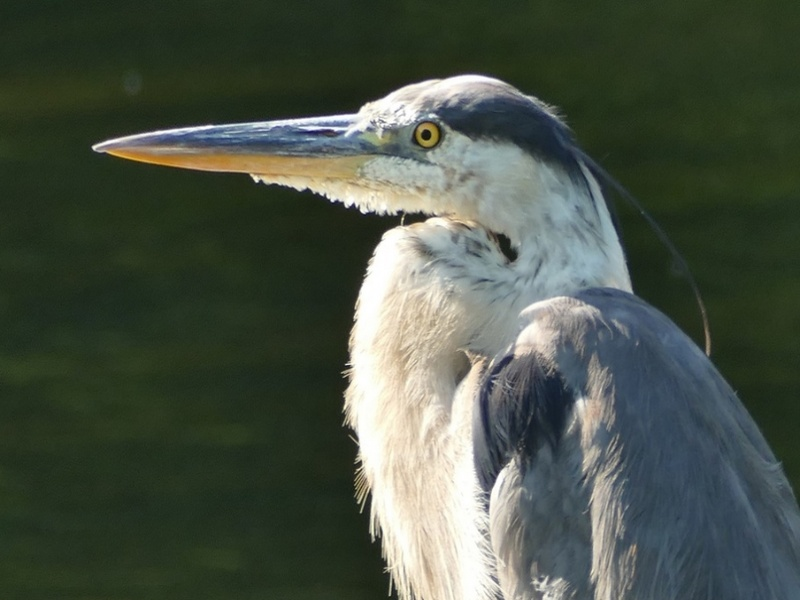heron: (88, 68, 784, 589)
